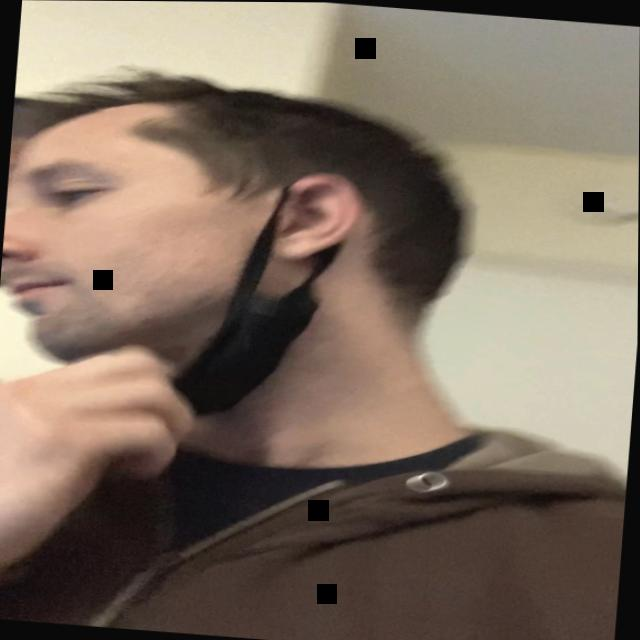NO-Mask: (0, 83, 356, 392)
